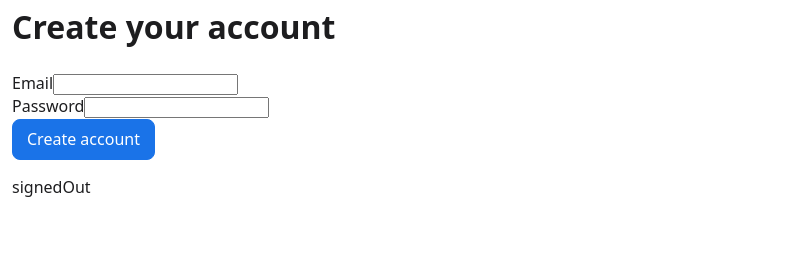
Test: SignUpForm › announces a neutral refusal for a registered address in a live region
Type "ana@example.com" into the field labelled "Email" at (146,85), box x1=53 y1=74 x2=238 y2=95
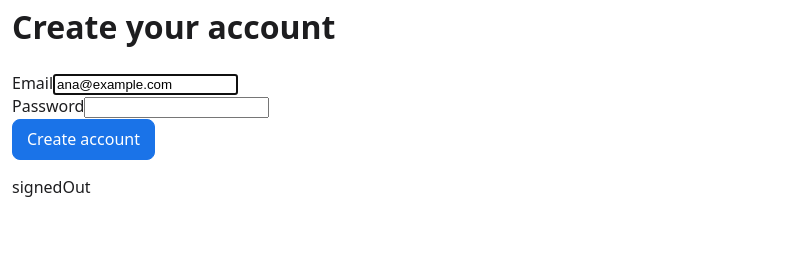
Type "correct-horse-battery-staple-42" into the password field labelled "Password" at (177,108), box x1=84 y1=98 x2=269 y2=118
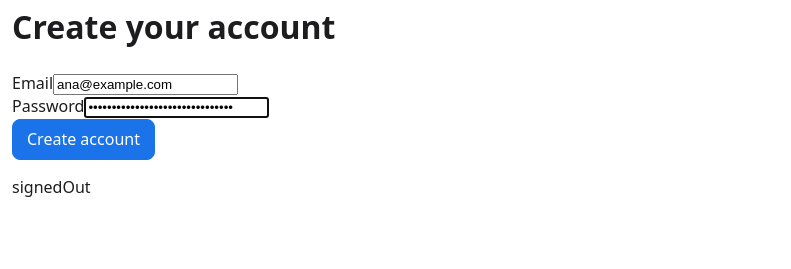
Click the button "Create account" at (83,139), box x1=12 y1=119 x2=155 y2=160
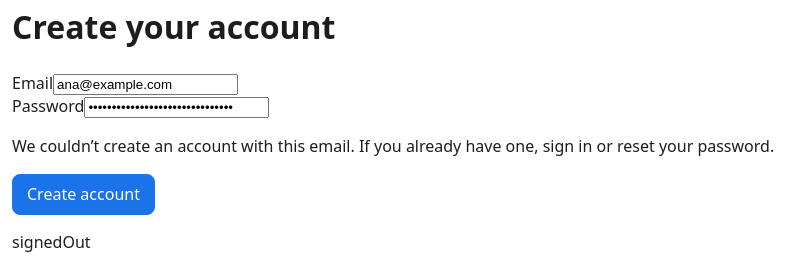
Check: the message shows "reset your password", box x1=12 y1=135 x2=774 y2=157
